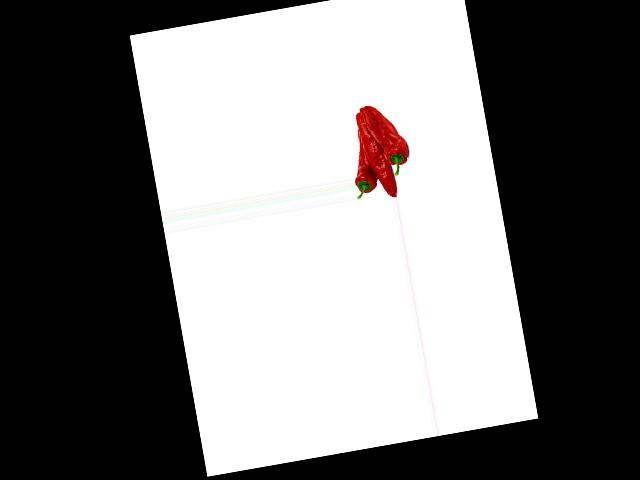bell_pepper: (367, 98, 414, 180)
